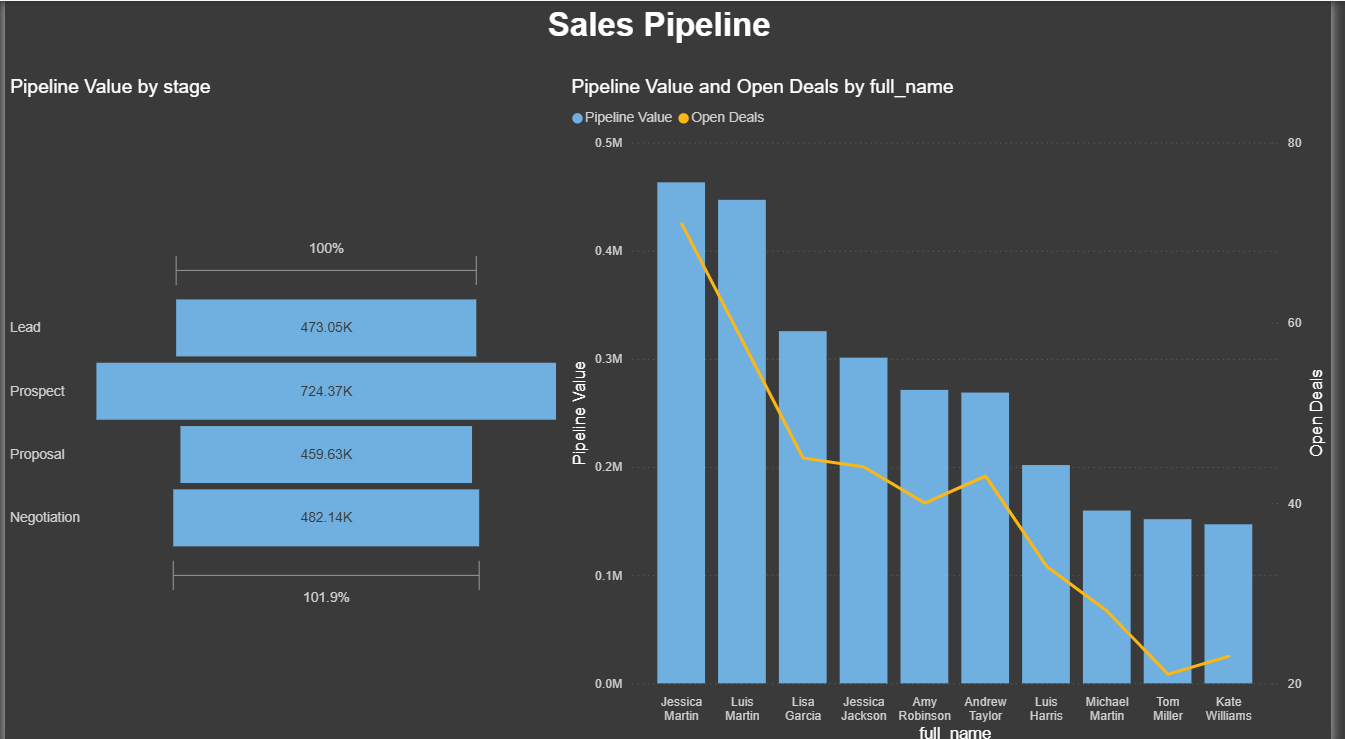

The dashboard page shown, as its layout file describes it:
{"tool":"powerbi","page":{"name":"Sales Pipeline","canvas":[1280,720],"ordinal":1},"visuals":[{"type":"funnel","fields":{"Category":["opportunitie.stage"],"Y":["opportunitie.Pipeline Value"]},"box":[0,72.7,542,647.7],"z":0},{"type":"lineStackedColumnComboChart","fields":{"Category":["sales_reps.full_name"],"Y":["opportunitie.Pipeline Value"],"Y2":["opportunitie.Open Deals"]},"box":[542,72.7,738.3,647.7],"z":1000},{"type":"textbox","box":[518.7,0,241.5,72.7],"z":2000}]}

Visuals, with their boxes in screenshot pixels (x1, y1, x2, y2), scaled from the page's 1280x720 canvas onto the 1345x739 screenshot:
funnel - opportunitie.stage x opportunitie.Pipeline Value: [x1=0, y1=75, x2=570, y2=738]
lineStackedColumnComboChart - sales_reps.full_name x opportunitie.Pipeline Value: [x1=570, y1=75, x2=1344, y2=738]
textbox: [x1=545, y1=0, x2=799, y2=75]
